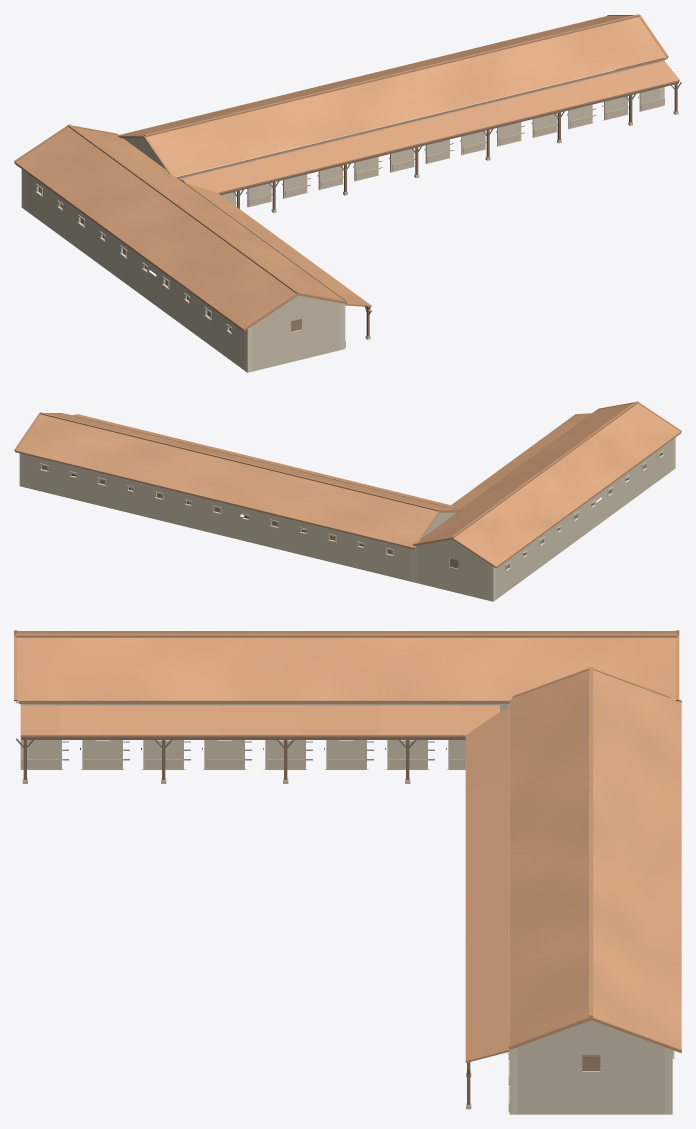
Rendered from SM_BM_BE_3_Stables.glb.
The picture shows the model from 3 angles, top to bottom: view 1: azimuth 30°, elevation 25°; view 2: azimuth 150°, elevation 25°; view 3: azimuth 270°, elevation 25°; orthographic projection. The views are drawn at different scales.
Parts seen in each view (by area): view 1: SM_BM_BE_3_Stables; view 2: SM_BM_BE_3_Stables; view 3: SM_BM_BE_3_Stables.
Boxes of the visible parts, x1,y1,x2,y2 form: SM_BM_BE_3_Stables: [14, 14, 681, 372]; SM_BM_BE_3_Stables: [14, 401, 681, 601]; SM_BM_BE_3_Stables: [14, 630, 681, 1114].
Size of the model in its own units: 60.96 by 6.82 by 40.96.
